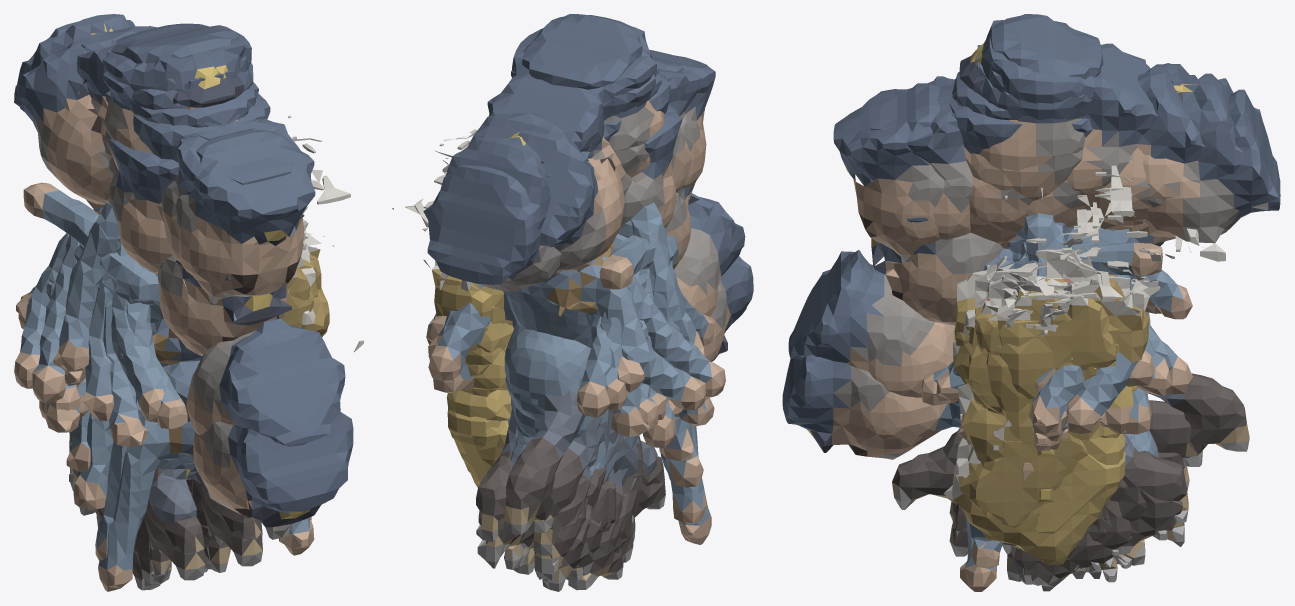
File: facteur.glb
The picture shows the model from 3 angles, left to right: view 1: azimuth 30°, elevation 25°; view 2: azimuth 150°, elevation 25°; view 3: azimuth 270°, elevation 25°; orthographic projection. The views are drawn at different scales.
Parts seen in each view (by area): view 1: dash_01, death_05, death_04, death_03, death_01, idle_03, death_02, walk_00, dash_02, death_00, idle_02, walk_01 (+12 smaller); view 2: hurt_00, dash_01, death_01, idle_03, death_04, death_00, death_05, death_02, dash_02, hurt_02, death_03, dash_00 (+12 smaller); view 3: death_04, dash_01, death_05, hurt_00, idle_03, death_00, death_03, dash_02, hurt_02, idle_04, walk_05, hurt_01 (+13 smaller).
Boxes of the visible parts, x1,y1,x2,y2 form: dash_01: [23, 129, 350, 539]; death_05: [98, 340, 363, 591]; death_04: [95, 318, 345, 584]; death_03: [73, 226, 295, 586]; death_01: [14, 31, 111, 527]; idle_03: [53, 23, 322, 370]; death_02: [66, 138, 208, 590]; walk_00: [69, 104, 262, 566]; dash_02: [16, 119, 327, 545]; death_00: [28, 14, 134, 499]; idle_02: [64, 52, 316, 385]; walk_01: [69, 114, 306, 540]; hurt_00: [392, 161, 706, 527]; dash_01: [504, 55, 715, 534]; death_01: [461, 130, 714, 580]; idle_03: [435, 15, 704, 355]; death_04: [447, 193, 745, 562]; death_00: [414, 132, 725, 531]; death_05: [450, 256, 753, 558]; death_02: [461, 105, 693, 590]; dash_02: [430, 49, 704, 532]; hurt_02: [423, 74, 679, 532]; death_03: [446, 184, 703, 568]; dash_00: [433, 120, 649, 580]; death_04: [788, 250, 1150, 584]; dash_01: [833, 83, 1249, 509]; death_05: [782, 355, 1158, 591]; hurt_00: [1044, 89, 1280, 522]; idle_03: [959, 14, 1131, 394]; death_00: [1016, 73, 1244, 525]; death_03: [871, 217, 1132, 585]; dash_02: [869, 76, 1202, 553]; hurt_02: [1046, 43, 1158, 567]; idle_04: [975, 37, 1132, 324]; walk_05: [948, 92, 1188, 538]; hurt_01: [1031, 64, 1205, 568].
Bounding box in the file's own units: 0.9711 × 1.77 × 1.45.
